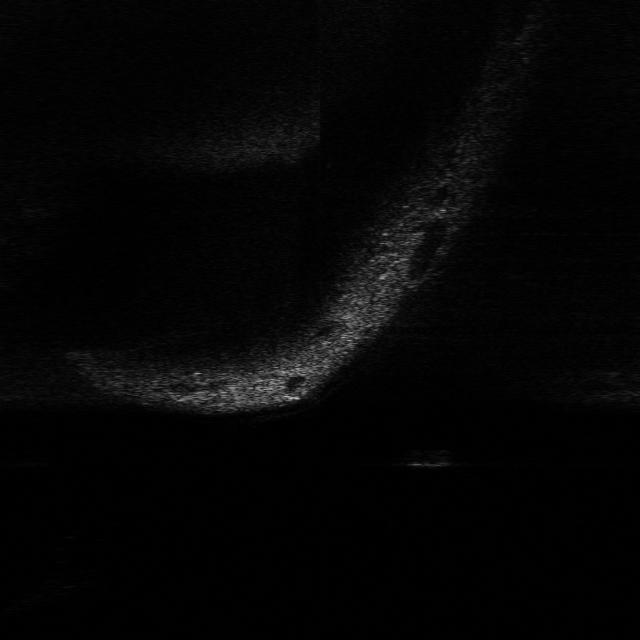cube: (400, 444, 454, 472)
